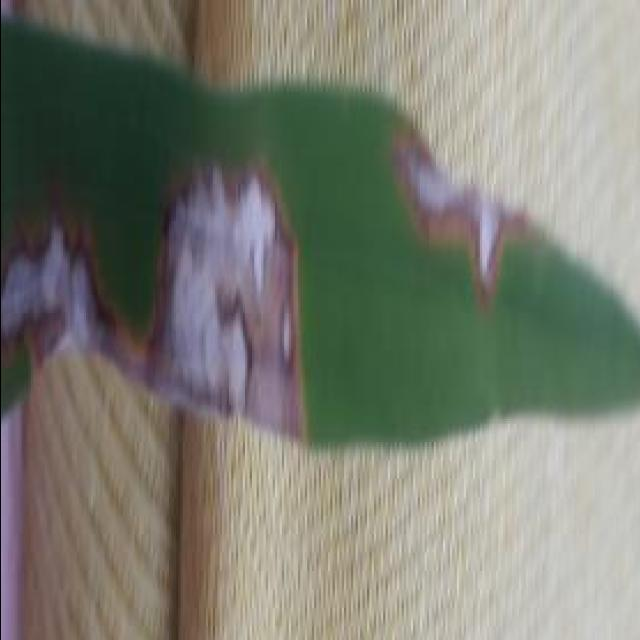Leaf_Blast: (143, 138, 329, 451), (375, 94, 527, 320), (0, 207, 122, 389)
